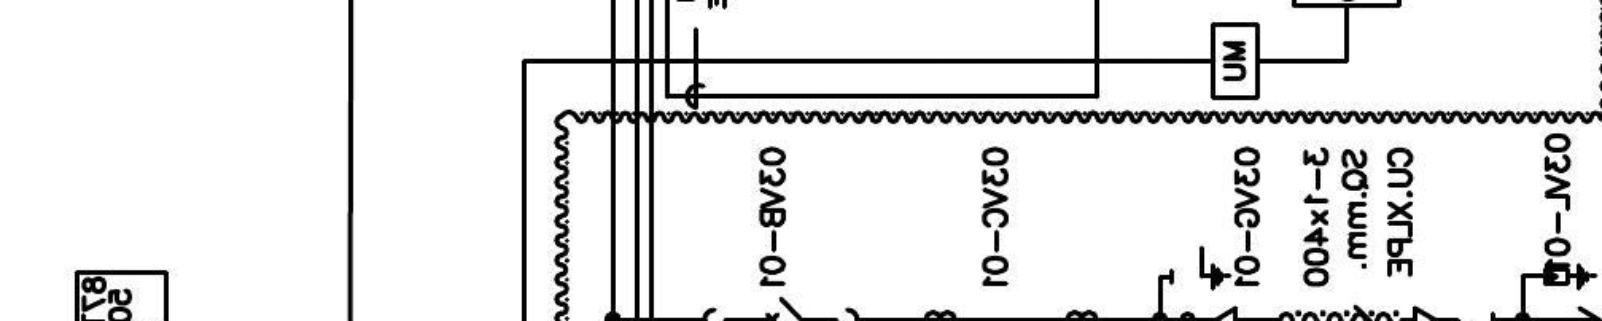22_gs: (1169, 244, 1232, 292)
MU: (1210, 21, 1261, 101)
